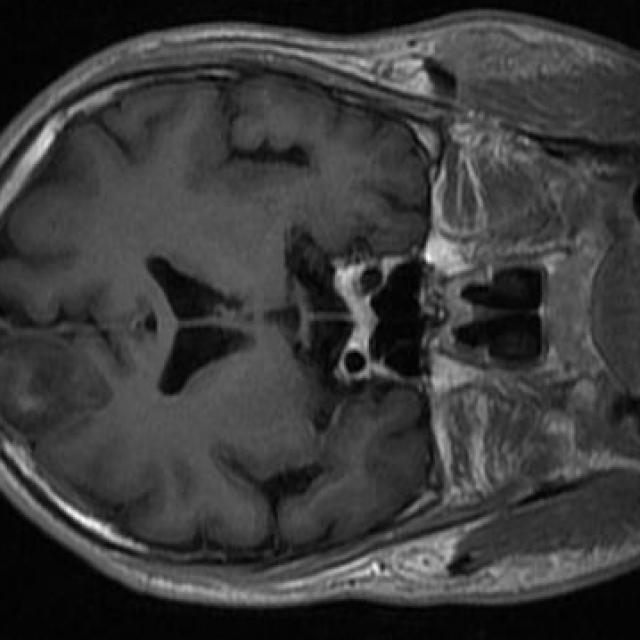glioma: (0, 335, 114, 435)
